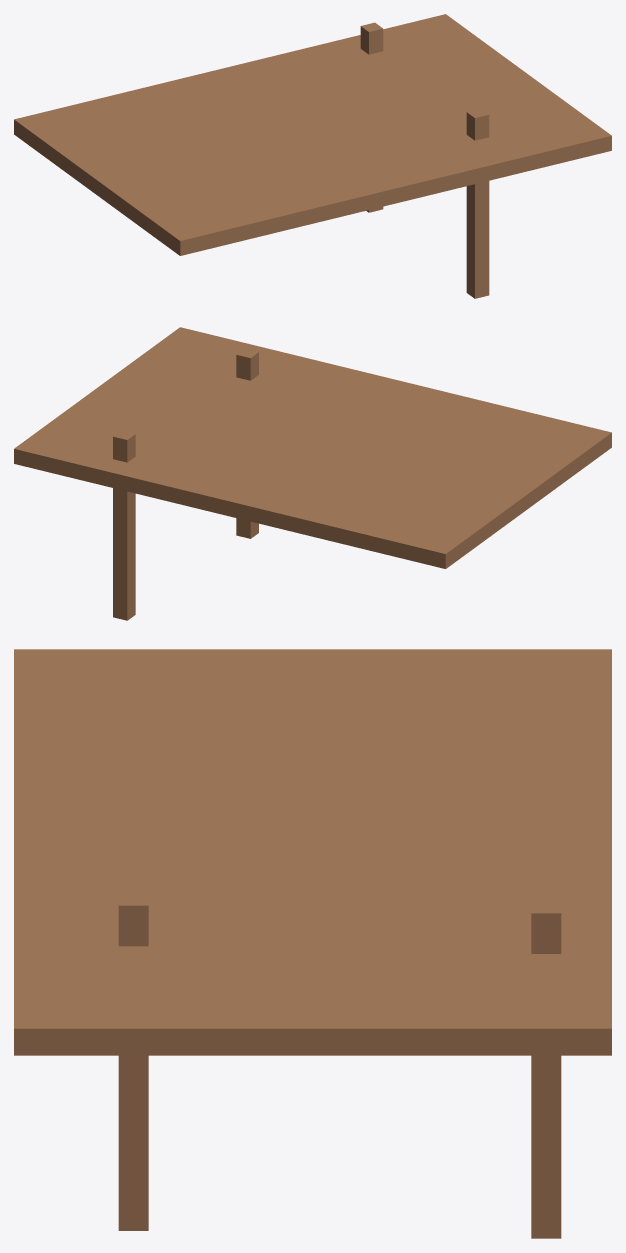
File: weirdtable.glb
3 renders of one model, top to bottom at view 1: azimuth 30°, elevation 25°; view 2: azimuth 150°, elevation 25°; view 3: azimuth 270°, elevation 25°, orthographic. The views are drawn at different scales.
Visible parts, largest first — view 1: TableTop, TableLeg_2, TableLeg_1; view 2: TableTop, TableLeg_1, TableLeg_2; view 3: TableTop, TableLeg_1, TableLeg_2.
Boxes of the visible parts, box(x1,y1,x2,y2) form: TableTop: box(14, 14, 611, 255); TableLeg_2: box(466, 108, 489, 298); TableLeg_1: box(360, 22, 383, 212); TableTop: box(14, 327, 611, 568); TableLeg_1: box(113, 430, 135, 620); TableLeg_2: box(236, 348, 258, 538); TableTop: box(14, 649, 611, 1055); TableLeg_1: box(531, 900, 561, 1238); TableLeg_2: box(118, 893, 148, 1230).
Bounding box in the file's own units: 3 × 1.2 × 2.
